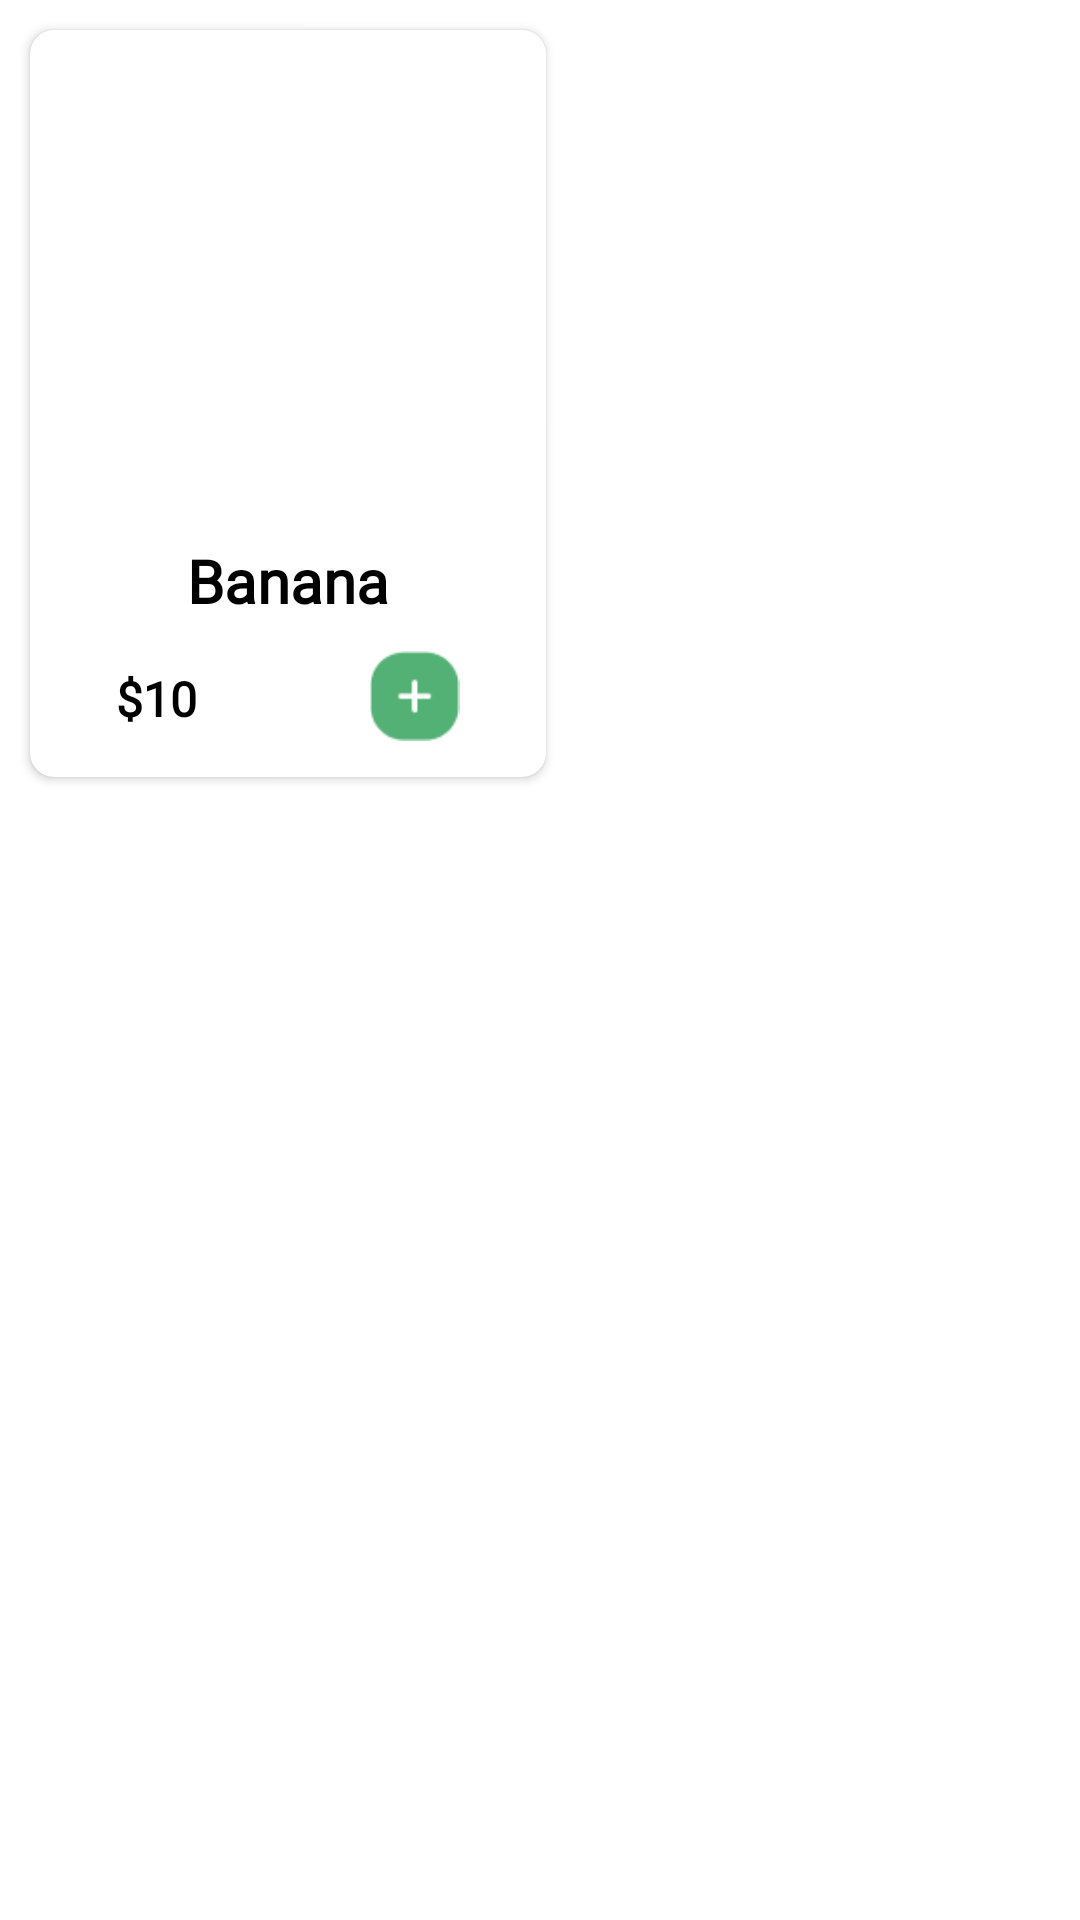

Icons on this 1080x1920 Android screen, each with its box as (x1, y1, x2, y2):
addbtn: (370, 651, 460, 741)
